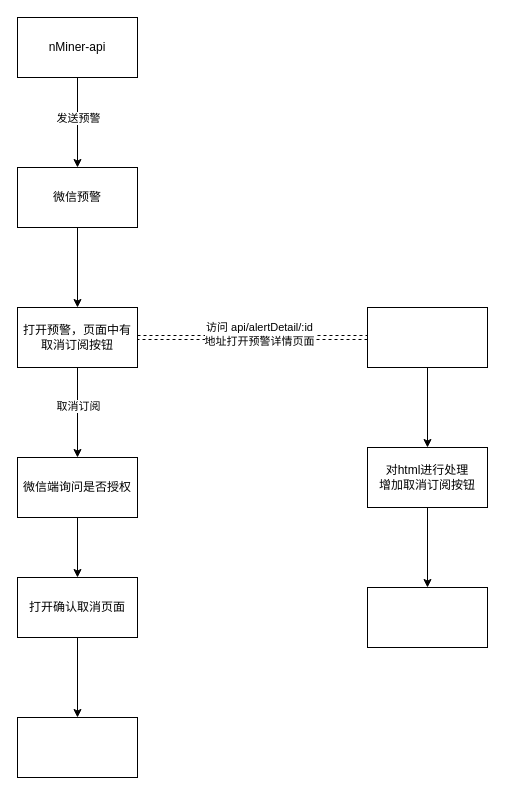
The diagram is 505 pixels wide and 795 high, and some of its shapes have lost their labels. Each missing label, with the centre of its shape:
"后端根据alertId查询elog记录，获取当次预警的html代码" belongs at (x=427, y=337).
"确认取消，后台接口更新subject-api数据" belongs at (x=77, y=747).
"返回页面" belongs at (x=427, y=617).
